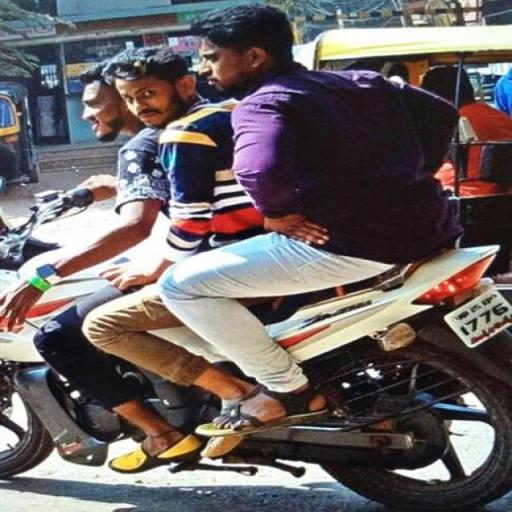tripple riding: (0, 18, 476, 298)
